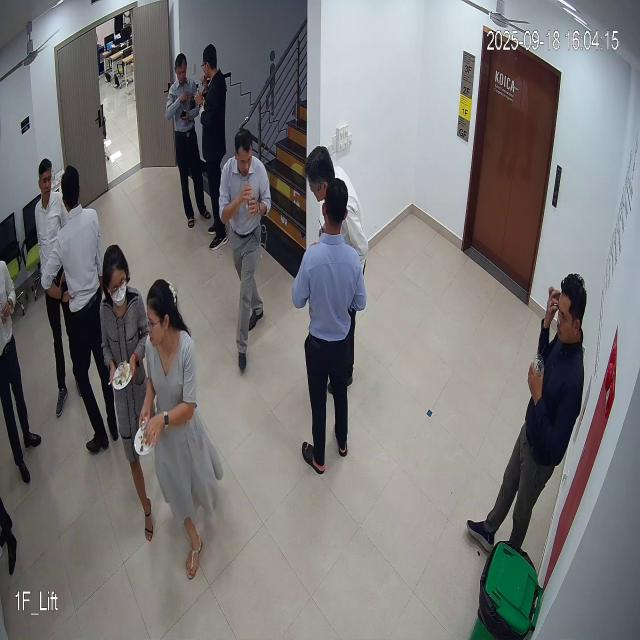face: (145, 278, 177, 353), (100, 244, 132, 313), (228, 134, 256, 180)
